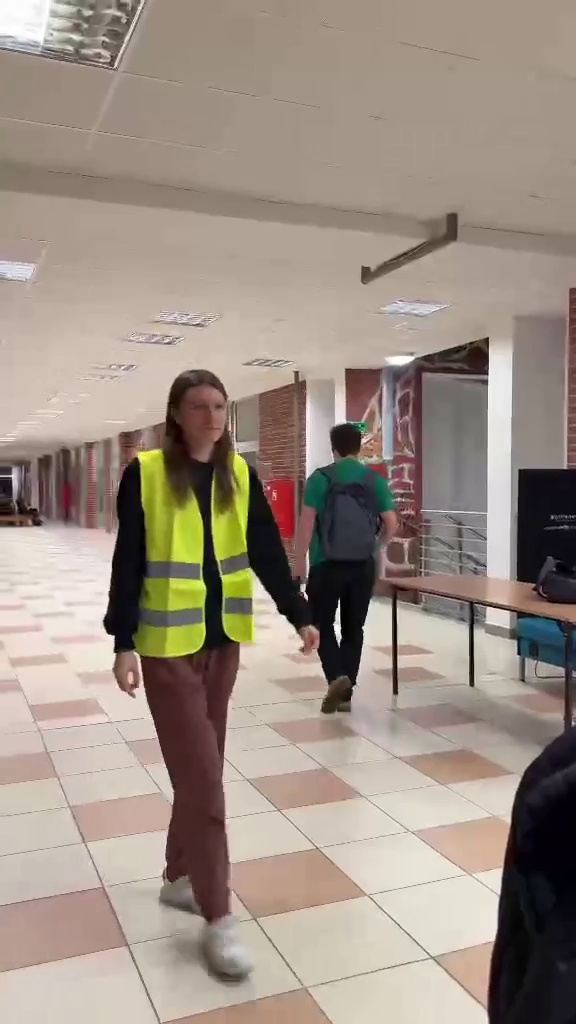no vest: (307, 423, 391, 695)
vest: (113, 369, 312, 968)
